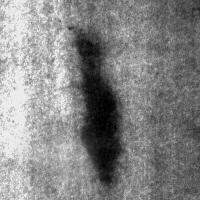patches: (73, 74, 124, 186), (31, 123, 101, 193), (66, 24, 103, 82)
